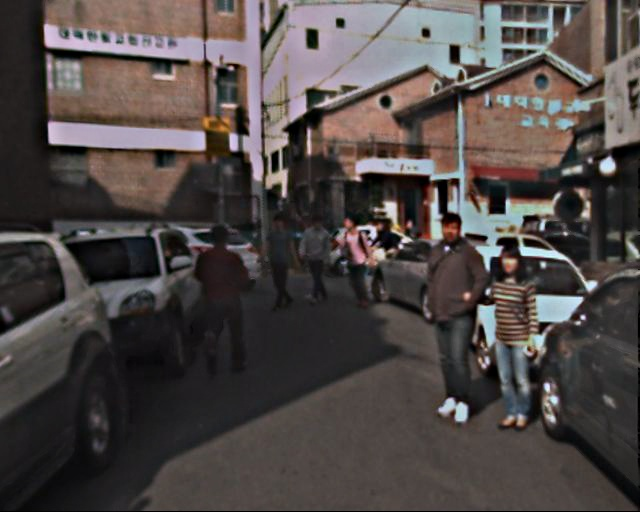person: (407, 213, 494, 425), (472, 242, 550, 433), (187, 225, 251, 381), (255, 211, 297, 313), (333, 214, 372, 308), (296, 215, 333, 305), (369, 216, 398, 287)
